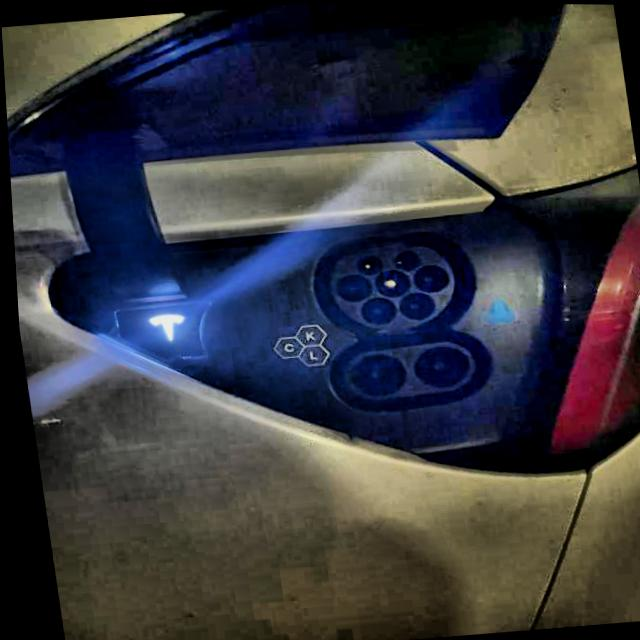inlet: (325, 245, 450, 328)
inlet-above-left: (353, 254, 378, 274)
inlet-above-right: (392, 249, 418, 269)
inlet-below-left: (357, 296, 392, 324)
inlet-below-right: (395, 292, 431, 319)
inlet-center: (371, 268, 407, 296)
inlet-center-left: (332, 273, 369, 301)
inlet-center-right: (409, 264, 445, 292)
